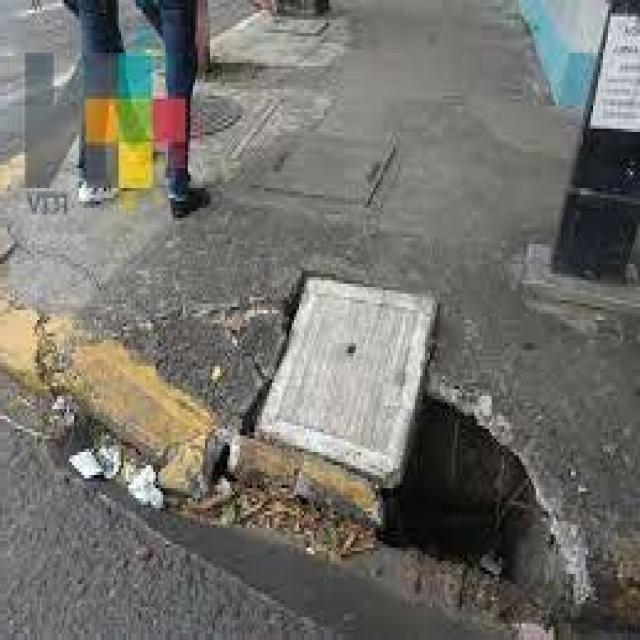pothole: (368, 340, 601, 640)
